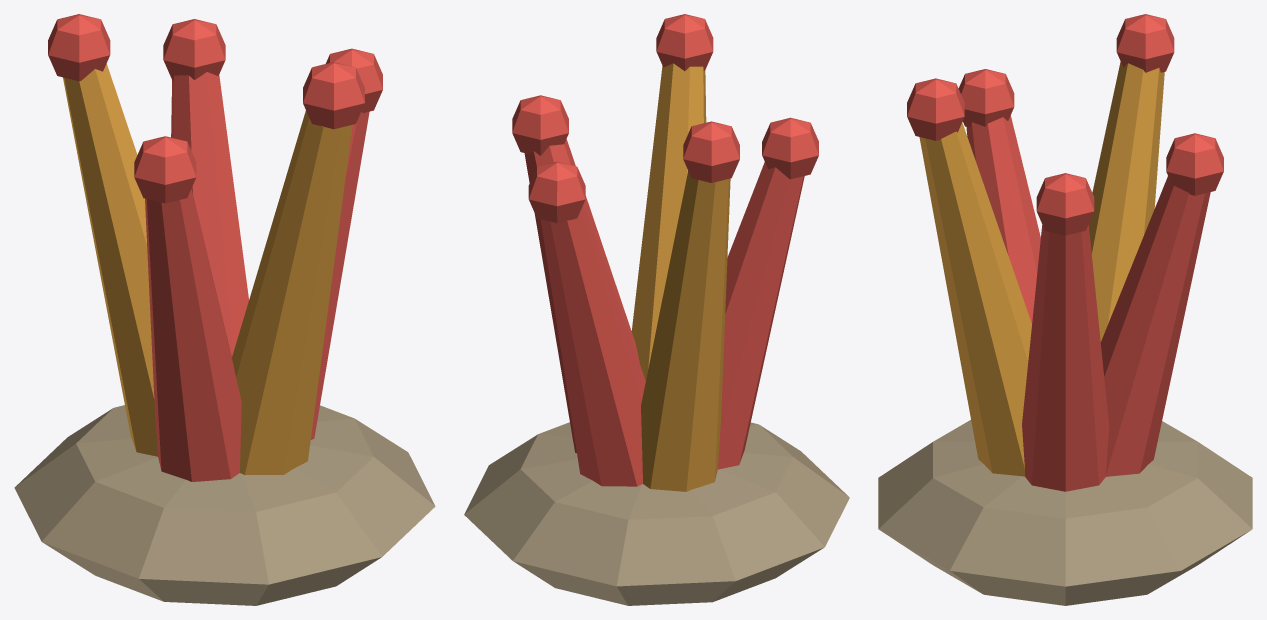
File: ParkParkDecorCoral.obj
The picture shows the model from 3 angles, left to right: view 1: azimuth 30°, elevation 25°; view 2: azimuth 150°, elevation 25°; view 3: azimuth 270°, elevation 25°; orthographic projection. The views are drawn at different scales.
Visible parts, largest first — view 1: ParkParkDecorCoral; view 2: ParkParkDecorCoral; view 3: ParkParkDecorCoral.
Boxes of the visible parts, bbox=[...] form: ParkParkDecorCoral: bbox=[14, 14, 435, 605]; ParkParkDecorCoral: bbox=[464, 14, 849, 605]; ParkParkDecorCoral: bbox=[878, 14, 1252, 605].
Size of the model in its own units: 2.6 by 3.67 by 2.47.
